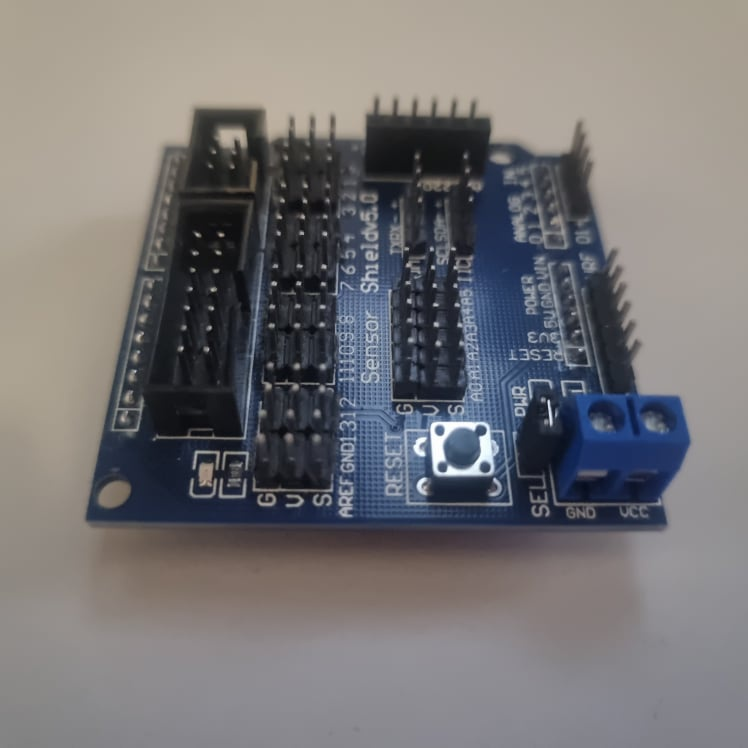5V EXPANSION: (81, 99, 691, 537)
